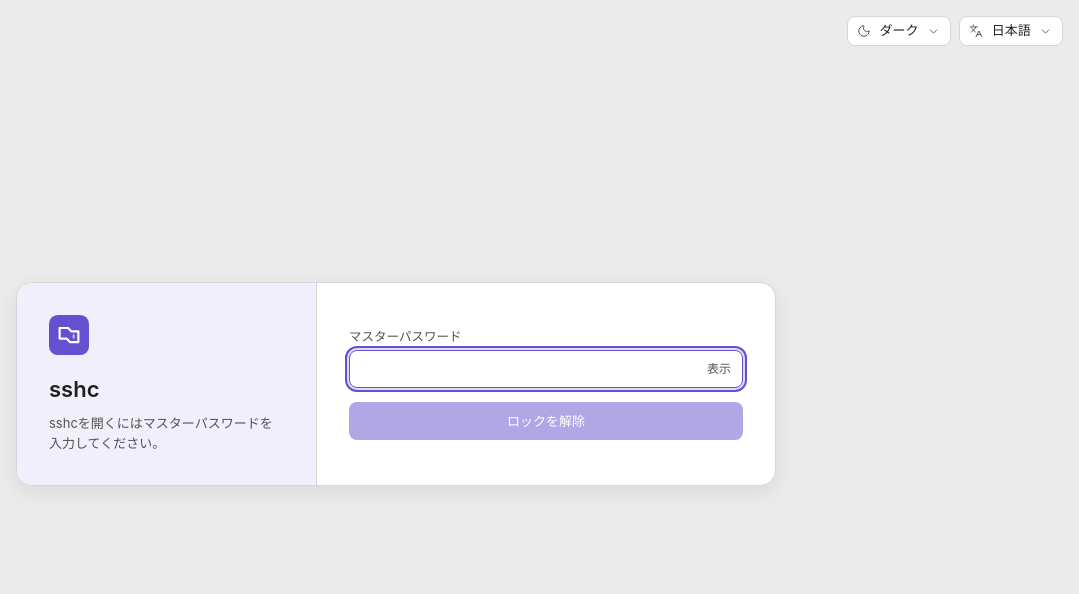
it: LockScreen › says unlocking failed when the engine refuses an unlock for an unknown reason
Type "the master password" into the password field named "マスターパスワード".
click(546, 369); type("the master password")  # box [349,350,743,388]
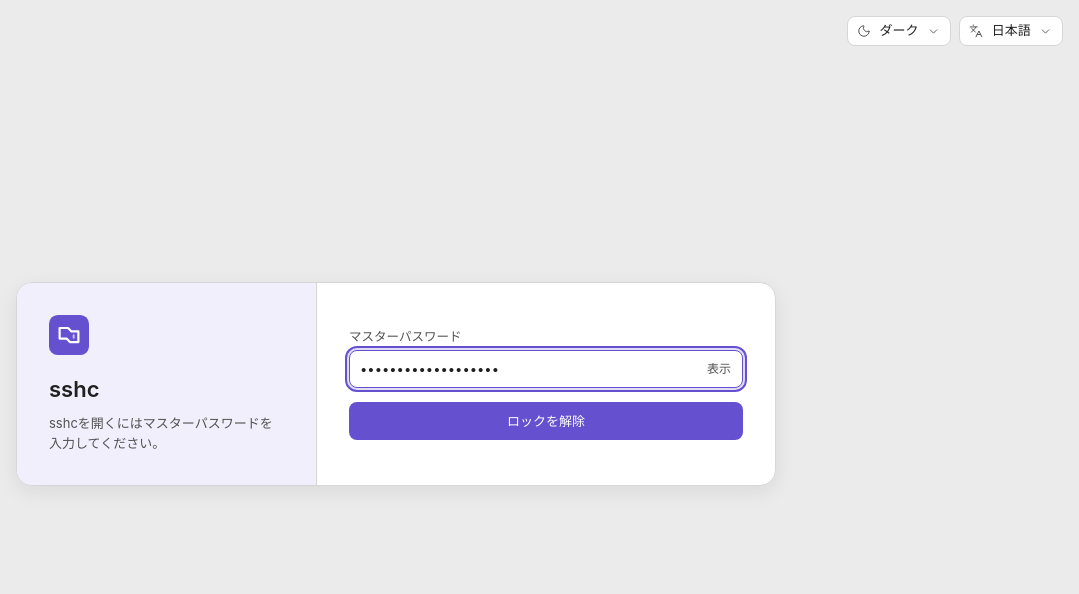
Click the button "ロックを解除".
click(546, 421)  # box [349,402,743,440]
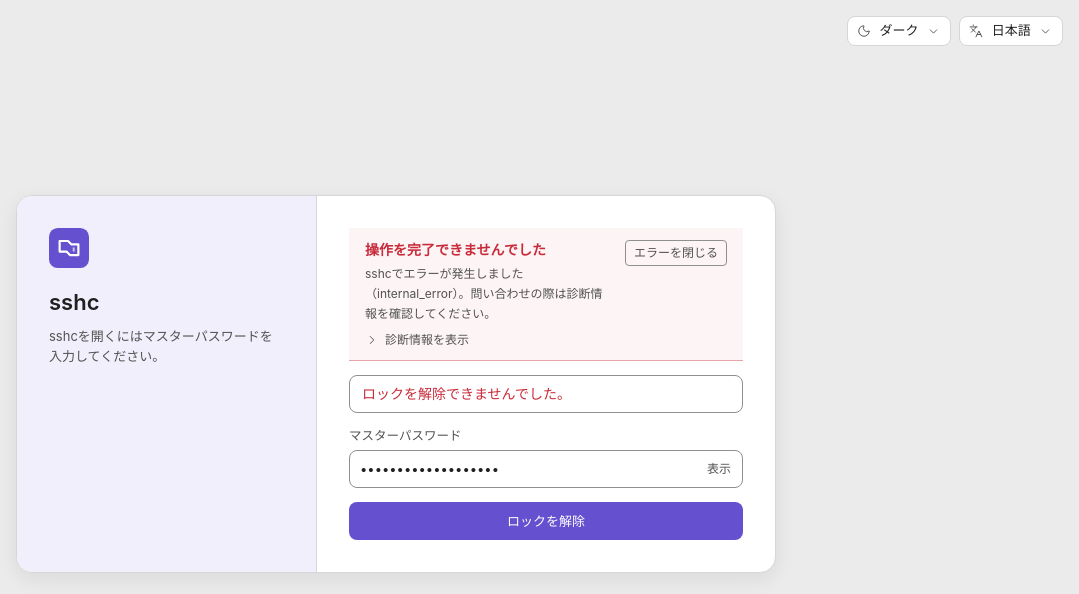
expect the message reads "ロックを解除できませんでした。": met, box [362,385,571,402]
